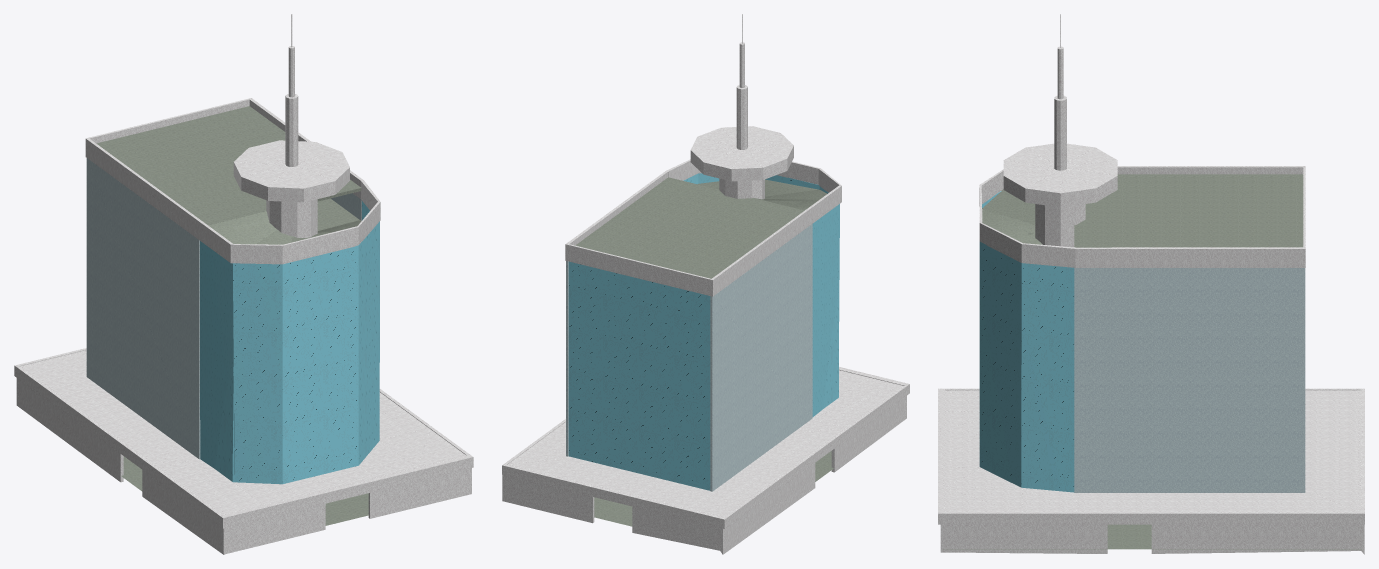
File: BGN_PARKING GARAGE 1.fbx
3 views of the same model, side by side, from view 1: azimuth 30°, elevation 25°; view 2: azimuth 150°, elevation 25°; view 3: azimuth 270°, elevation 25° (orthographic). The views are drawn at different scales.
Parts seen in each view (by area): view 1: BGN_PARKING_GARAGE_1; view 2: BGN_PARKING_GARAGE_1; view 3: BGN_PARKING_GARAGE_1.
Part boxes in pixels (box(x1,y1,x2,y2)): BGN_PARKING_GARAGE_1: box(14, 14, 473, 554); BGN_PARKING_GARAGE_1: box(502, 14, 909, 554); BGN_PARKING_GARAGE_1: box(938, 14, 1364, 554).
Bounding box in the file's own units: 2474 × 4434 × 3567.
